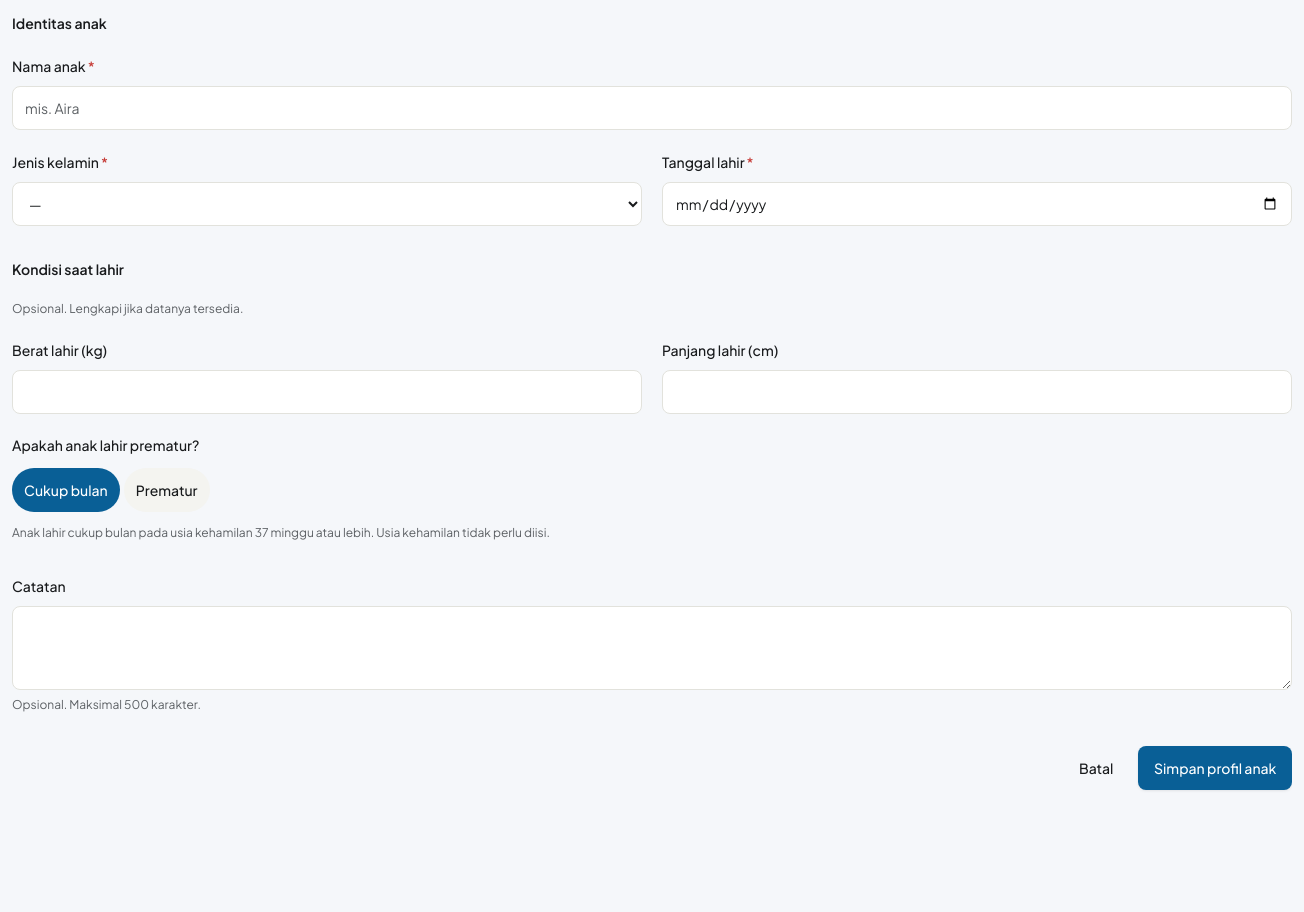
Scenario: AddChildForm › hides the gestational-age field until the preterm toggle is selected
Check: the field labelled "Usia kehamilan saat lahir (minggu)" is not shown
Click the tab "Prematur" at (167, 490), box x1=124 y1=468 x2=210 y2=512
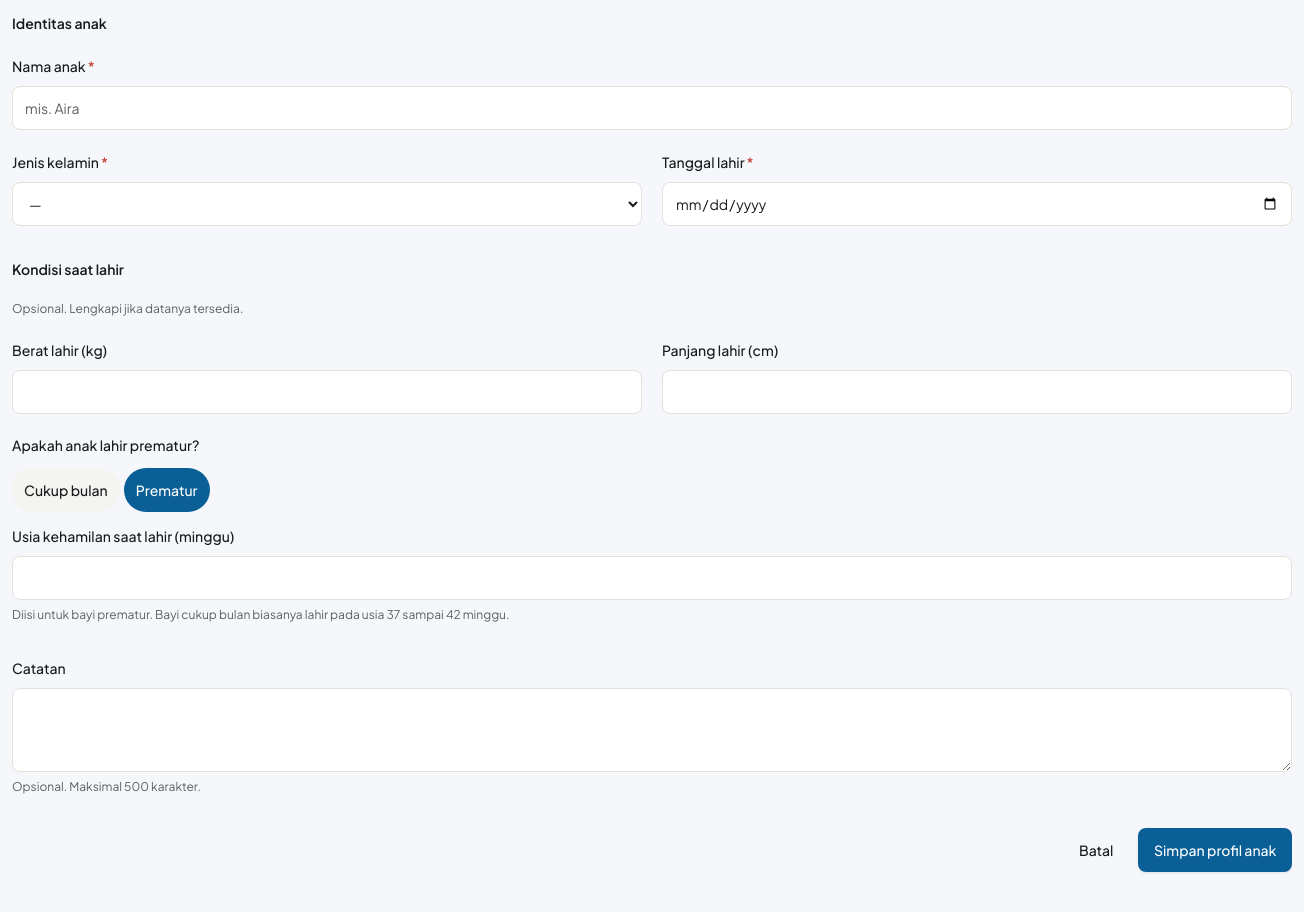
Check: the number field labelled "Usia kehamilan saat lahir (minggu)" is shown, box x1=12 y1=556 x2=1292 y2=600
